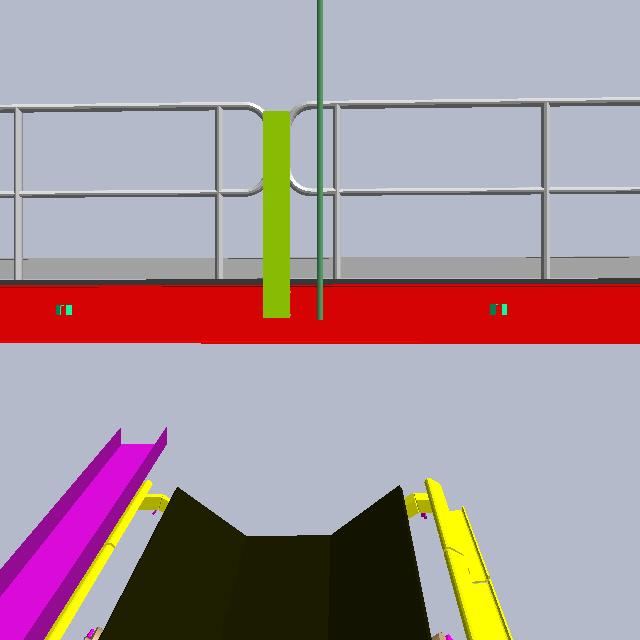Poste: (311, 1, 332, 327)
Soporte: (252, 102, 304, 336)
